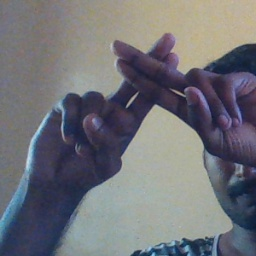F: (80, 30, 225, 148)
